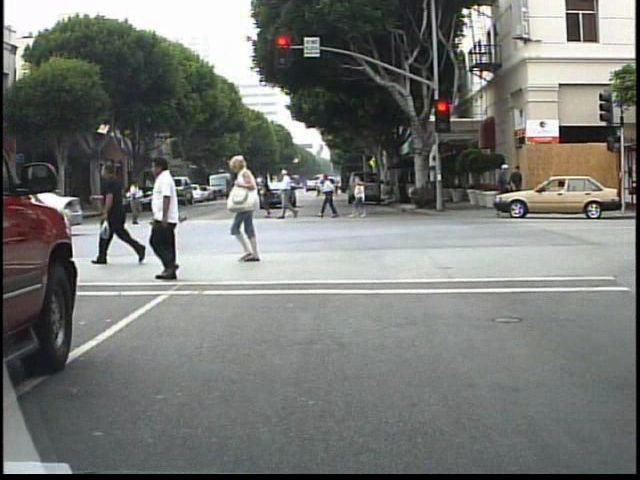person: (141, 156, 203, 285), (224, 157, 284, 268), (100, 157, 152, 274), (163, 173, 187, 232), (278, 167, 302, 223), (320, 172, 342, 225), (125, 175, 144, 225), (4, 187, 23, 236), (508, 162, 526, 208), (262, 174, 279, 221), (11, 196, 30, 237), (493, 160, 511, 196)
